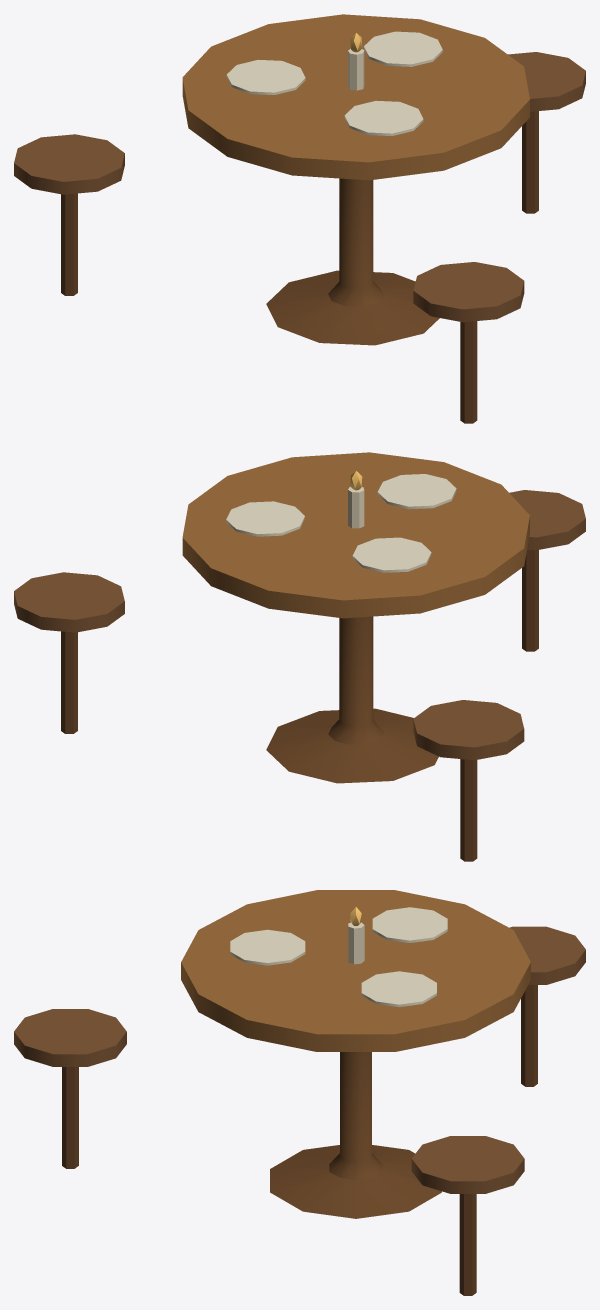
The model's file is table_set_block.glb.
The picture shows the model from 3 angles, top to bottom: view 1: azimuth 30°, elevation 25°; view 2: azimuth 150°, elevation 25°; view 3: azimuth 270°, elevation 25°; orthographic projection.
Parts seen in each view (by area): view 1: table_set; view 2: table_set; view 3: table_set.
Part boxes in pixels (x1,y1,x2,y2): table_set: [14, 14, 585, 423]; table_set: [14, 452, 585, 861]; table_set: [14, 890, 585, 1295].
Bounding box in the file's own units: 2.13 × 1.07 × 2.03.
